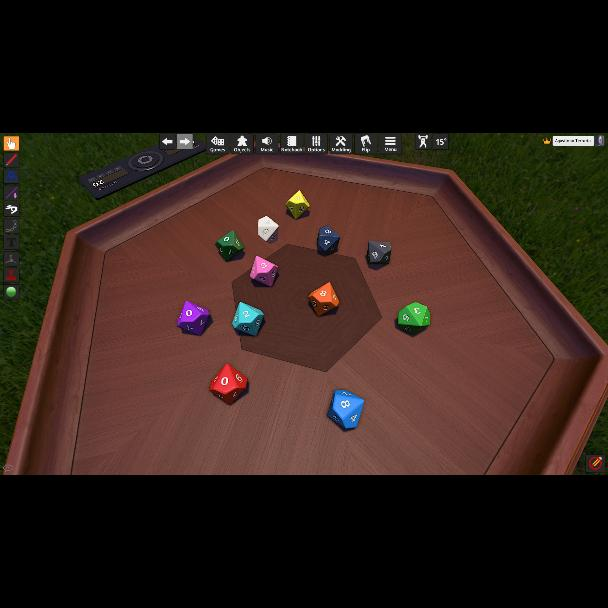d10: (208, 363, 248, 403), (328, 389, 364, 429), (177, 300, 209, 336), (233, 302, 265, 336), (308, 283, 338, 317), (398, 303, 428, 333), (215, 232, 243, 262), (250, 256, 278, 286), (285, 190, 309, 220), (316, 226, 340, 256), (258, 215, 280, 242), (367, 241, 391, 265)
